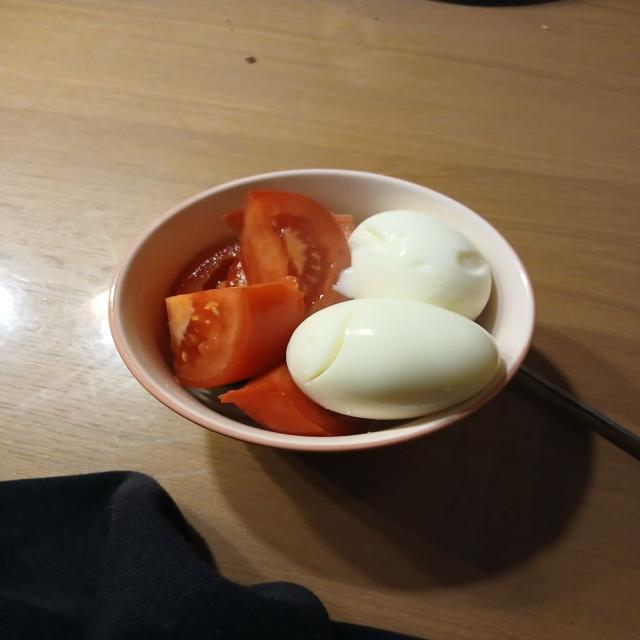egg boiled: (287, 299, 499, 419), (335, 211, 491, 319)
sliced tomatoe: (165, 277, 303, 388), (239, 190, 350, 315), (218, 364, 365, 436), (174, 241, 245, 294)
